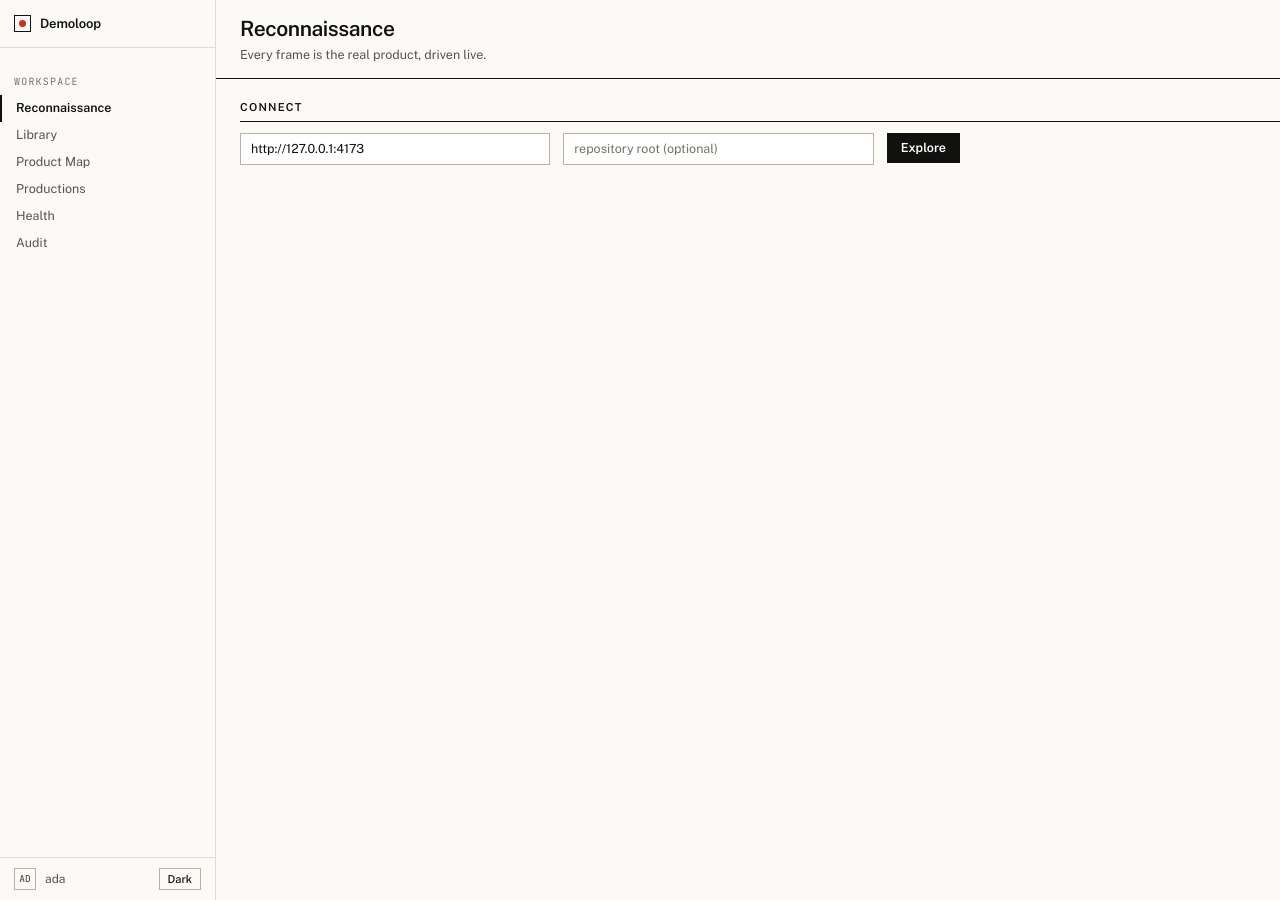
Scenario: a production without a master shows a placeholder, never a drawn screenshot
Click the button "Productions" at (51, 189), box top-left (16, 181), bottom-right (86, 196)
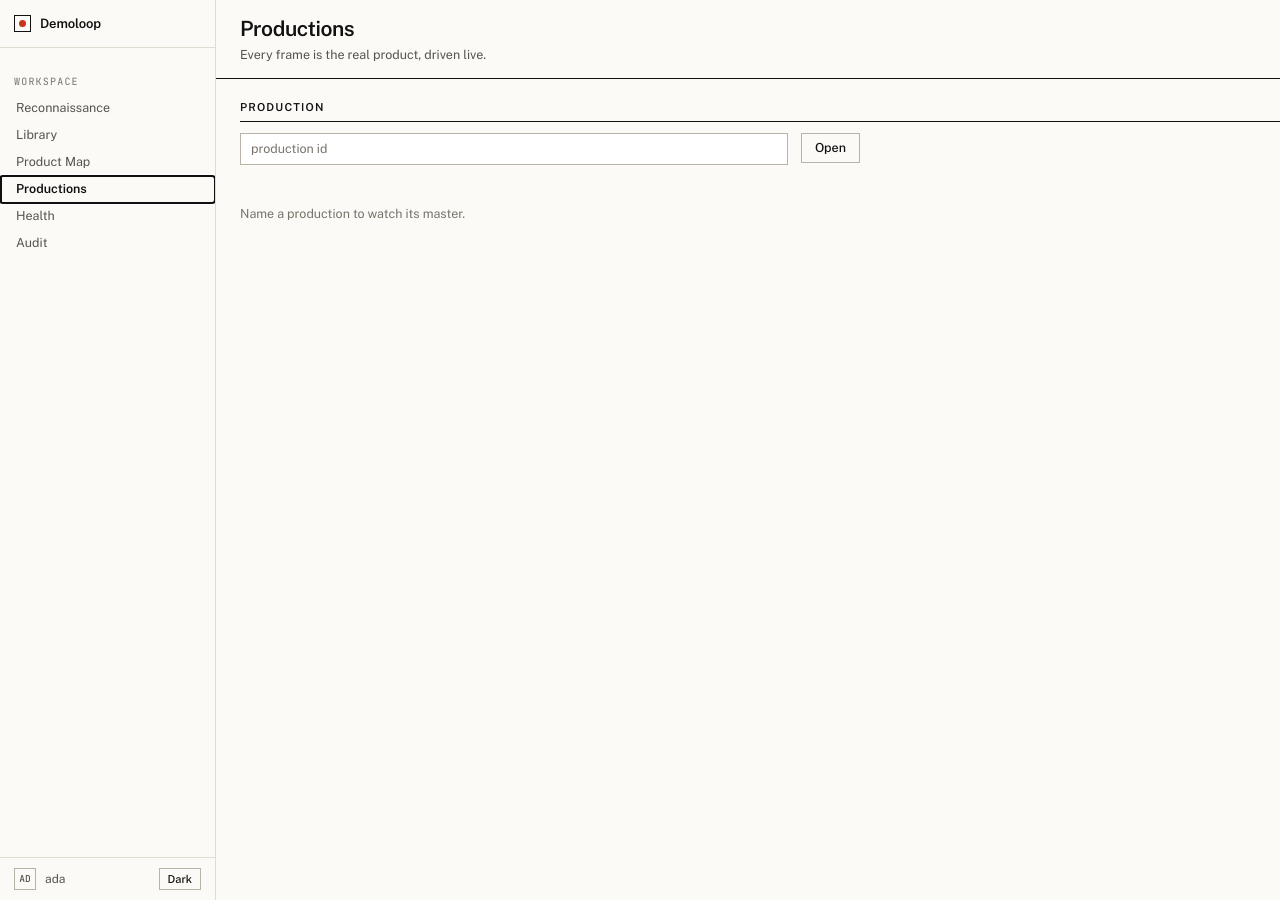
Type "p1" into the field labelled "production" at (514, 149), box top-left (240, 133), bottom-right (788, 165)
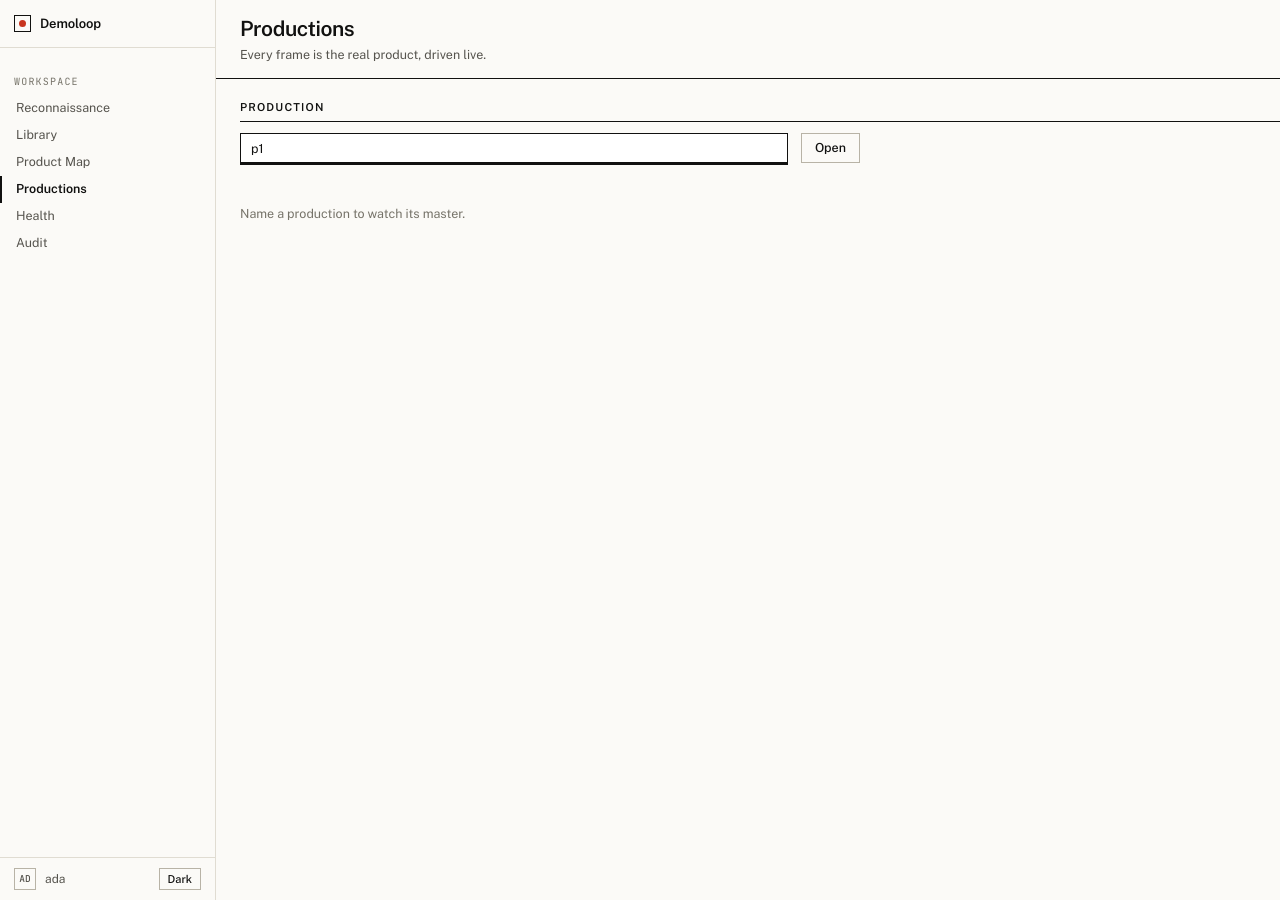
Click the button "Open" at (830, 148), box top-left (801, 133), bottom-right (860, 163)
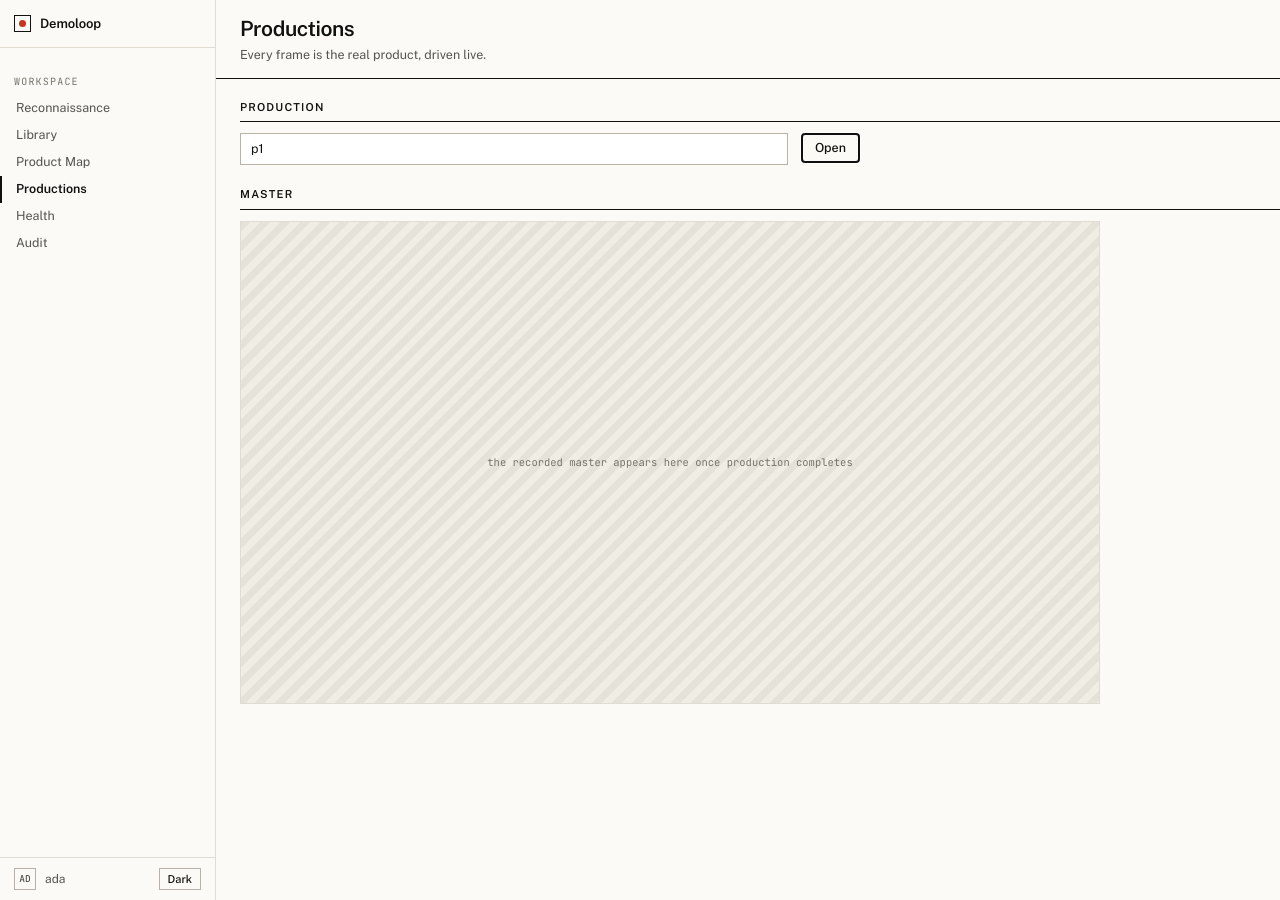
Result: the text "the recorded master appears here once production completes" is shown at top-left (240, 220), bottom-right (1100, 704)
